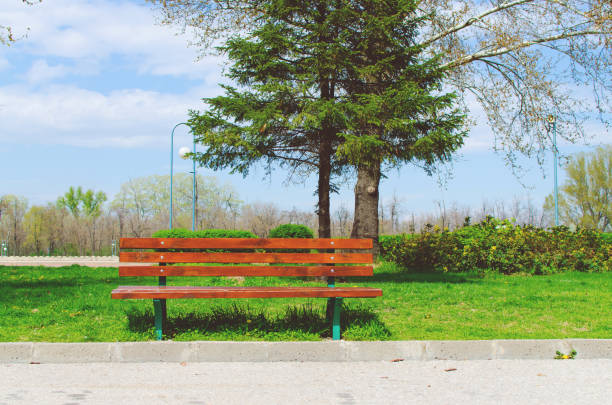bench: (105, 231, 388, 340)
